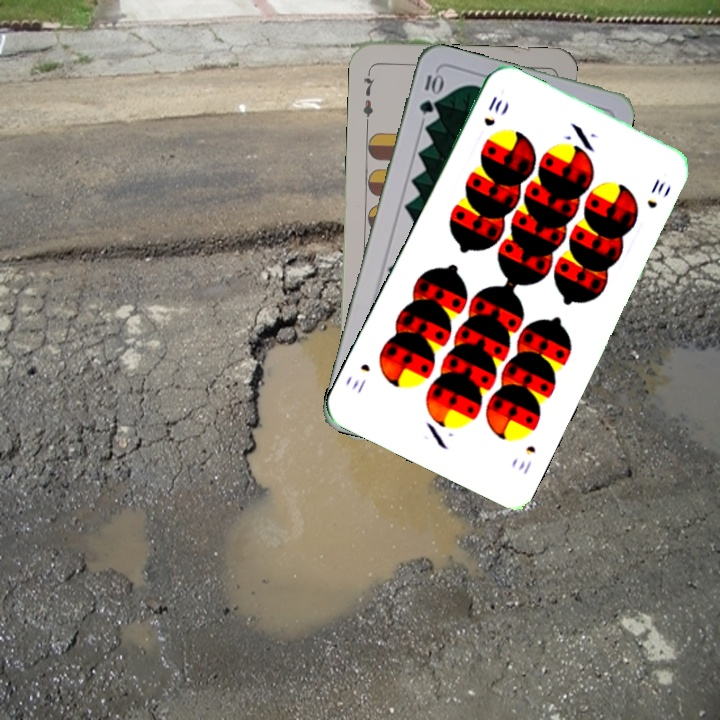E7: (359, 66, 377, 125)
G10: (415, 70, 444, 117)
S10: (479, 91, 505, 129), (514, 441, 538, 478)
